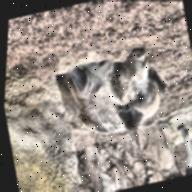boar: (42, 26, 181, 163)
